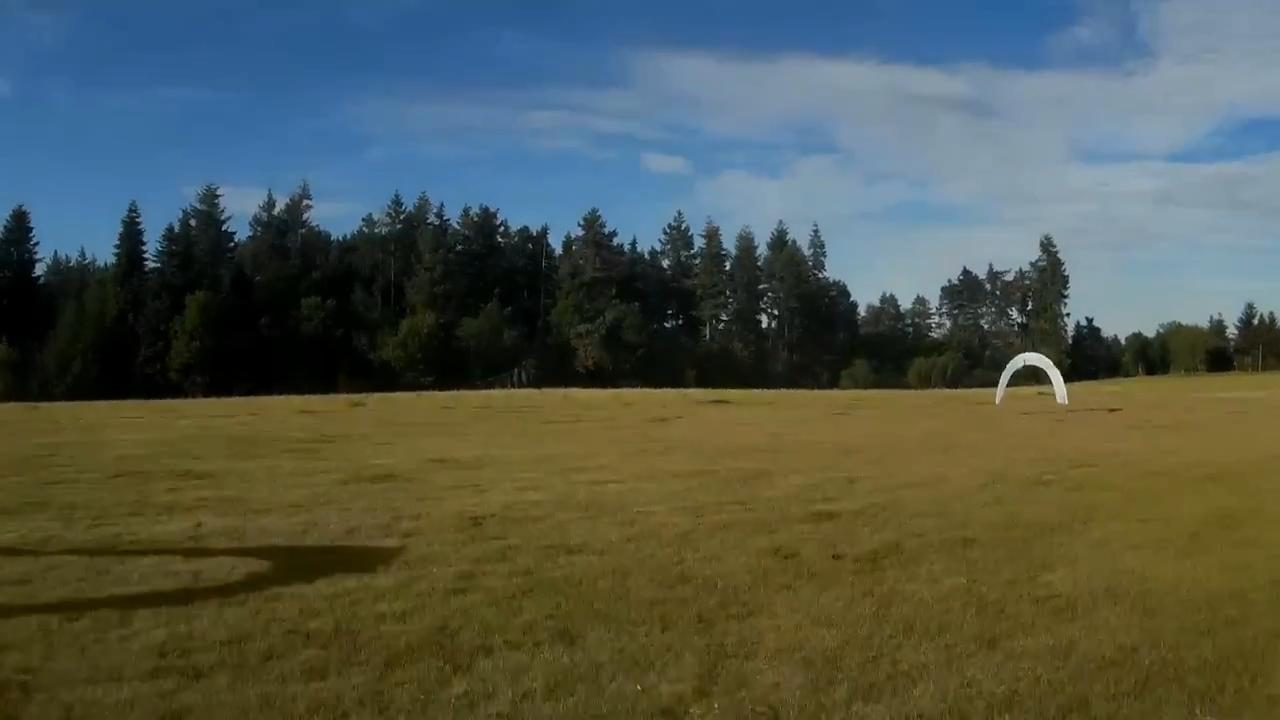gate: (995, 351, 1067, 407)
